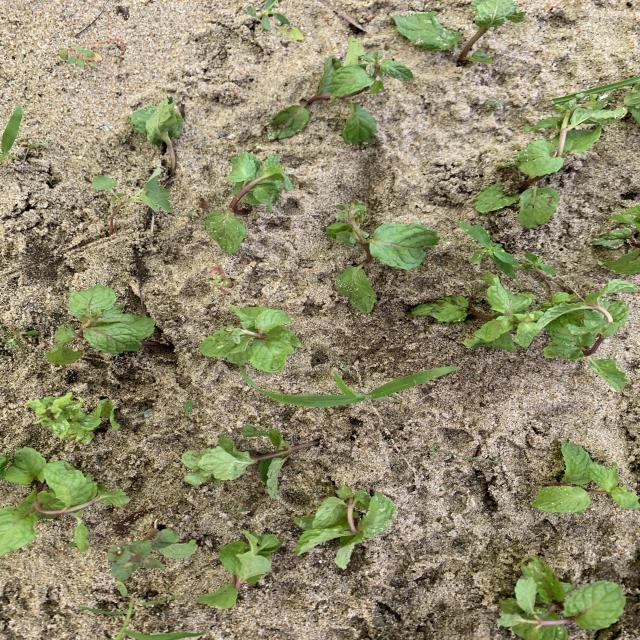crop: (475, 94, 630, 226), (268, 37, 413, 146), (1, 449, 129, 555), (326, 200, 439, 314), (411, 274, 544, 352), (498, 558, 626, 639), (183, 426, 311, 499), (205, 152, 292, 254), (391, 0, 525, 65), (47, 285, 155, 363), (293, 485, 395, 567), (537, 279, 639, 360), (532, 443, 638, 512), (197, 530, 282, 607), (200, 306, 300, 371), (108, 529, 197, 581), (26, 394, 113, 441), (591, 205, 640, 274), (130, 97, 183, 151), (589, 359, 628, 390)
weed: (240, 366, 458, 407), (92, 167, 174, 234), (77, 600, 202, 639), (459, 222, 518, 273), (247, 0, 288, 30), (1, 106, 21, 160), (518, 253, 556, 276), (60, 45, 95, 66), (2, 329, 37, 349), (487, 99, 502, 112), (223, 507, 246, 512), (184, 400, 192, 414)
